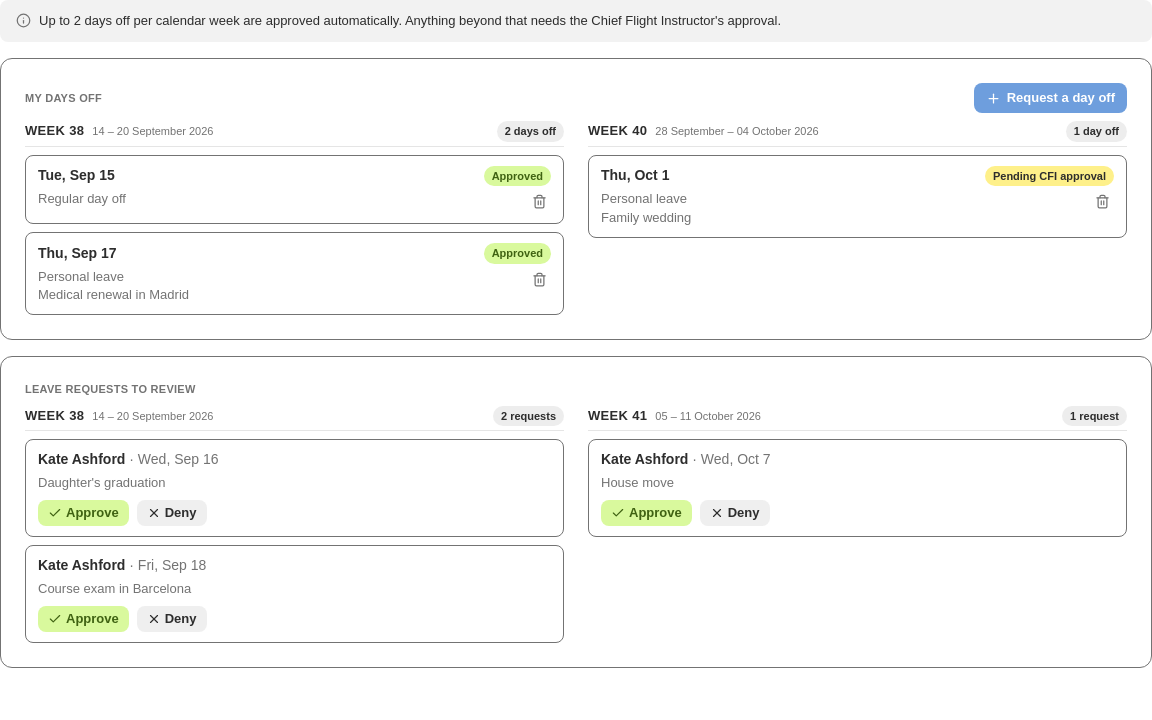
InstructorAvailability › lets the CFI deny a pending request
Click the button with aria-label "Deny Kate Ashford": [172, 513] box x1=137 y1=500 x2=206 y2=526
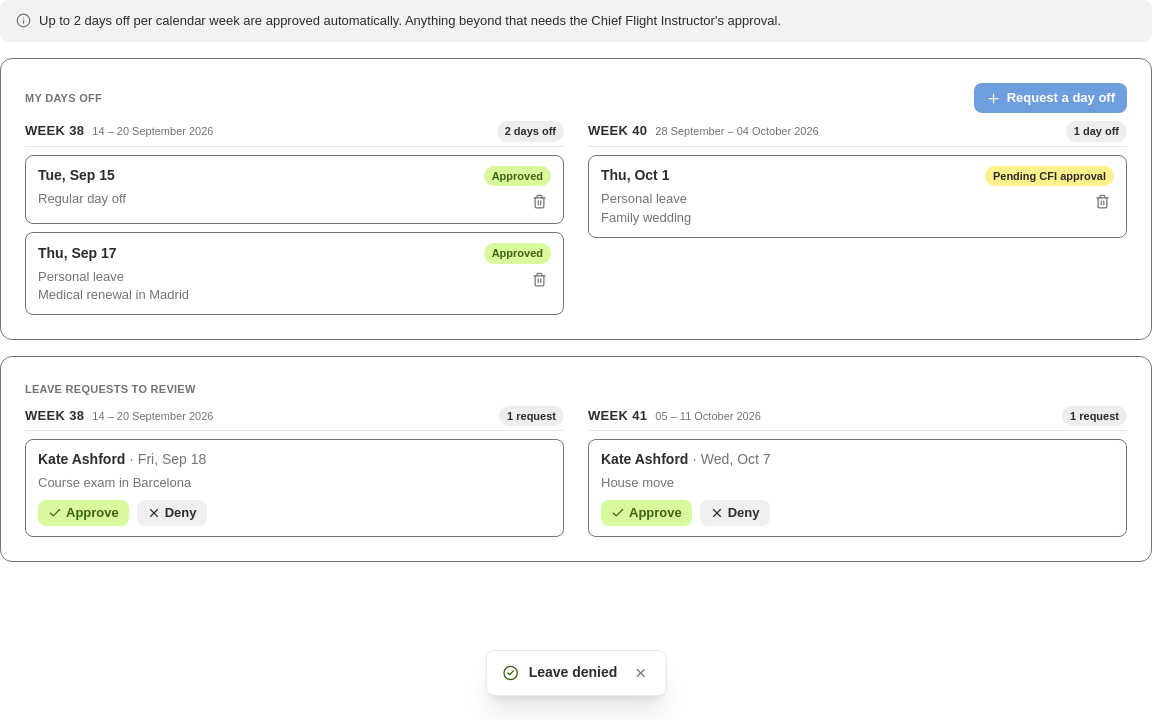
Result: the text "Leave denied" is shown at x1=529 y1=663 x2=617 y2=683
